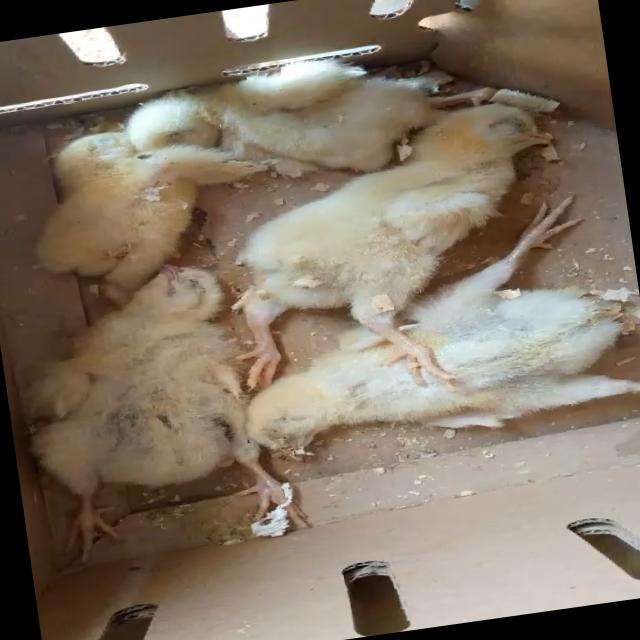dead: (156, 80, 596, 412), (188, 204, 640, 482), (0, 261, 280, 550), (17, 103, 210, 302)
